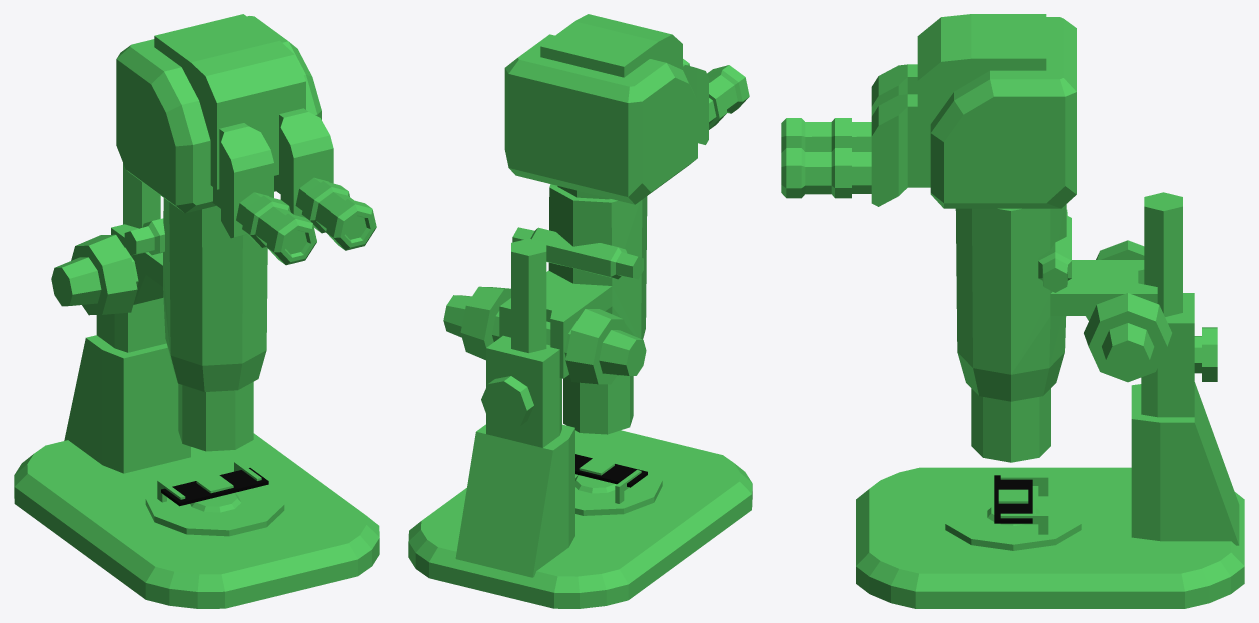
The model's file is Ph_microscope_1.fbx.
The picture shows the model from 3 angles, left to right: view 1: azimuth 30°, elevation 25°; view 2: azimuth 150°, elevation 25°; view 3: azimuth 270°, elevation 25°; orthographic projection. The views are drawn at different scales.
Parts seen in each view (by area): view 1: Cylinder_7; view 2: Cylinder_7; view 3: Cylinder_7.
Boxes of the visible parts, x1,y1,x2,y2 form: Cylinder_7: (14, 14, 379, 608); Cylinder_7: (408, 14, 752, 608); Cylinder_7: (781, 14, 1244, 608).
Bounding box in the file's own units: 22.8 × 46.63 × 38.11.
